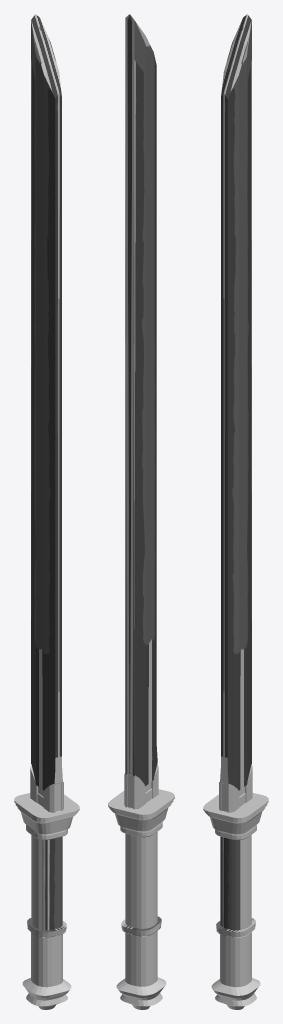
File: GP PRJ Hengdao.fbx
The picture shows the model from 3 angles, left to right: view 1: azimuth 30°, elevation 25°; view 2: azimuth 150°, elevation 25°; view 3: azimuth 330°, elevation 25°; orthographic projection.
Visible parts, largest first — view 1: Cube.004, Cube.001, Cube.003; view 2: Cube.004, Cube.001, Cube.003; view 3: Cube.004, Cube.001, Cube.003.
Part boxes in pixels (left/top/right/bottom): Cube.004: left=31, top=14, right=62, bottom=790; Cube.001: left=14, top=793, right=79, bottom=1009; Cube.003: left=30, top=764, right=63, bottom=812; Cube.004: left=125, top=14, right=157, bottom=785; Cube.001: left=108, top=789, right=174, bottom=1009; Cube.003: left=124, top=763, right=158, bottom=809; Cube.004: left=220, top=14, right=251, bottom=790; Cube.001: left=203, top=793, right=268, bottom=1009; Cube.003: left=219, top=764, right=252, bottom=812.
Bounding box in the file's own units: 17.32 × 367 × 20.49.
Materials: 5 (5 with a texture image).
